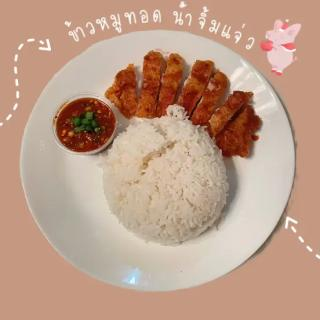carbs: (95, 116, 238, 252)
fried_pork_rice: (95, 42, 270, 250)
meat: (103, 47, 263, 162)
